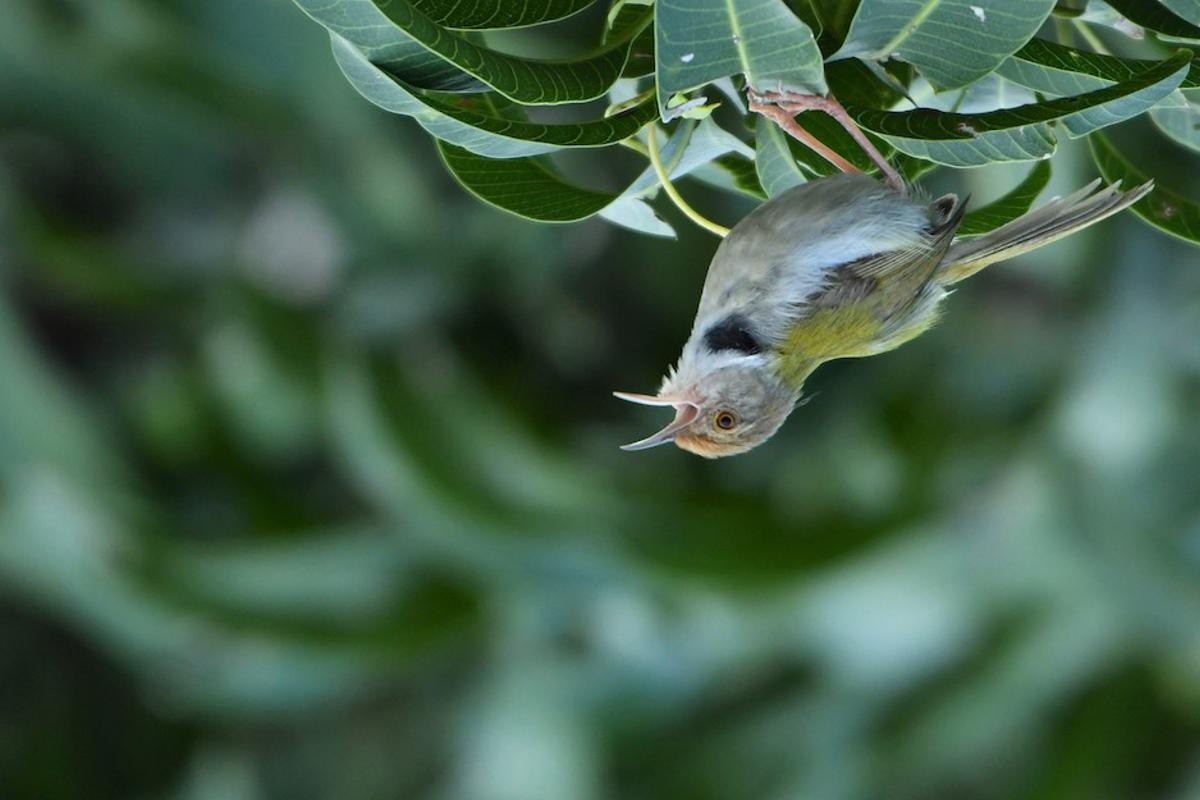tailorbird: (610, 131, 1113, 480)
